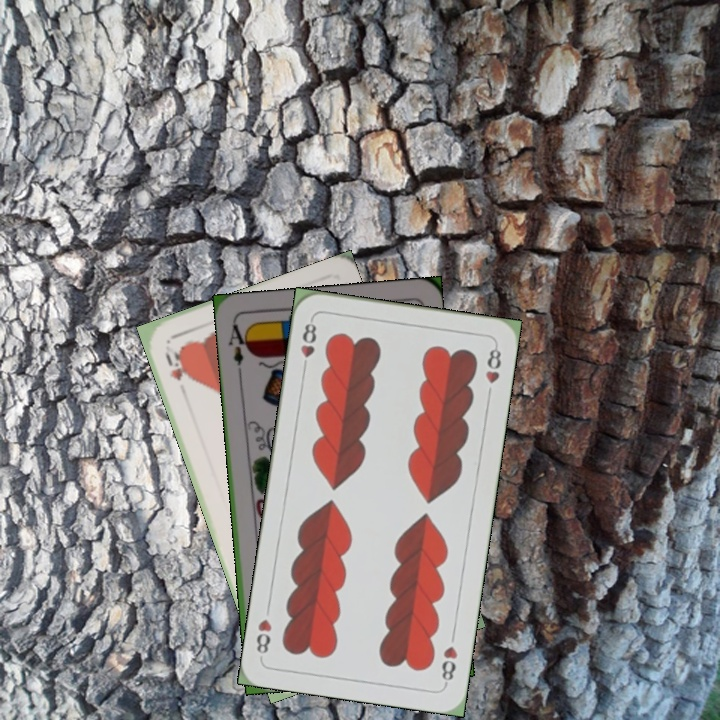EA: (224, 318, 252, 367)
H8: (296, 315, 319, 374), (437, 642, 460, 688)
HO: (161, 346, 189, 384)
